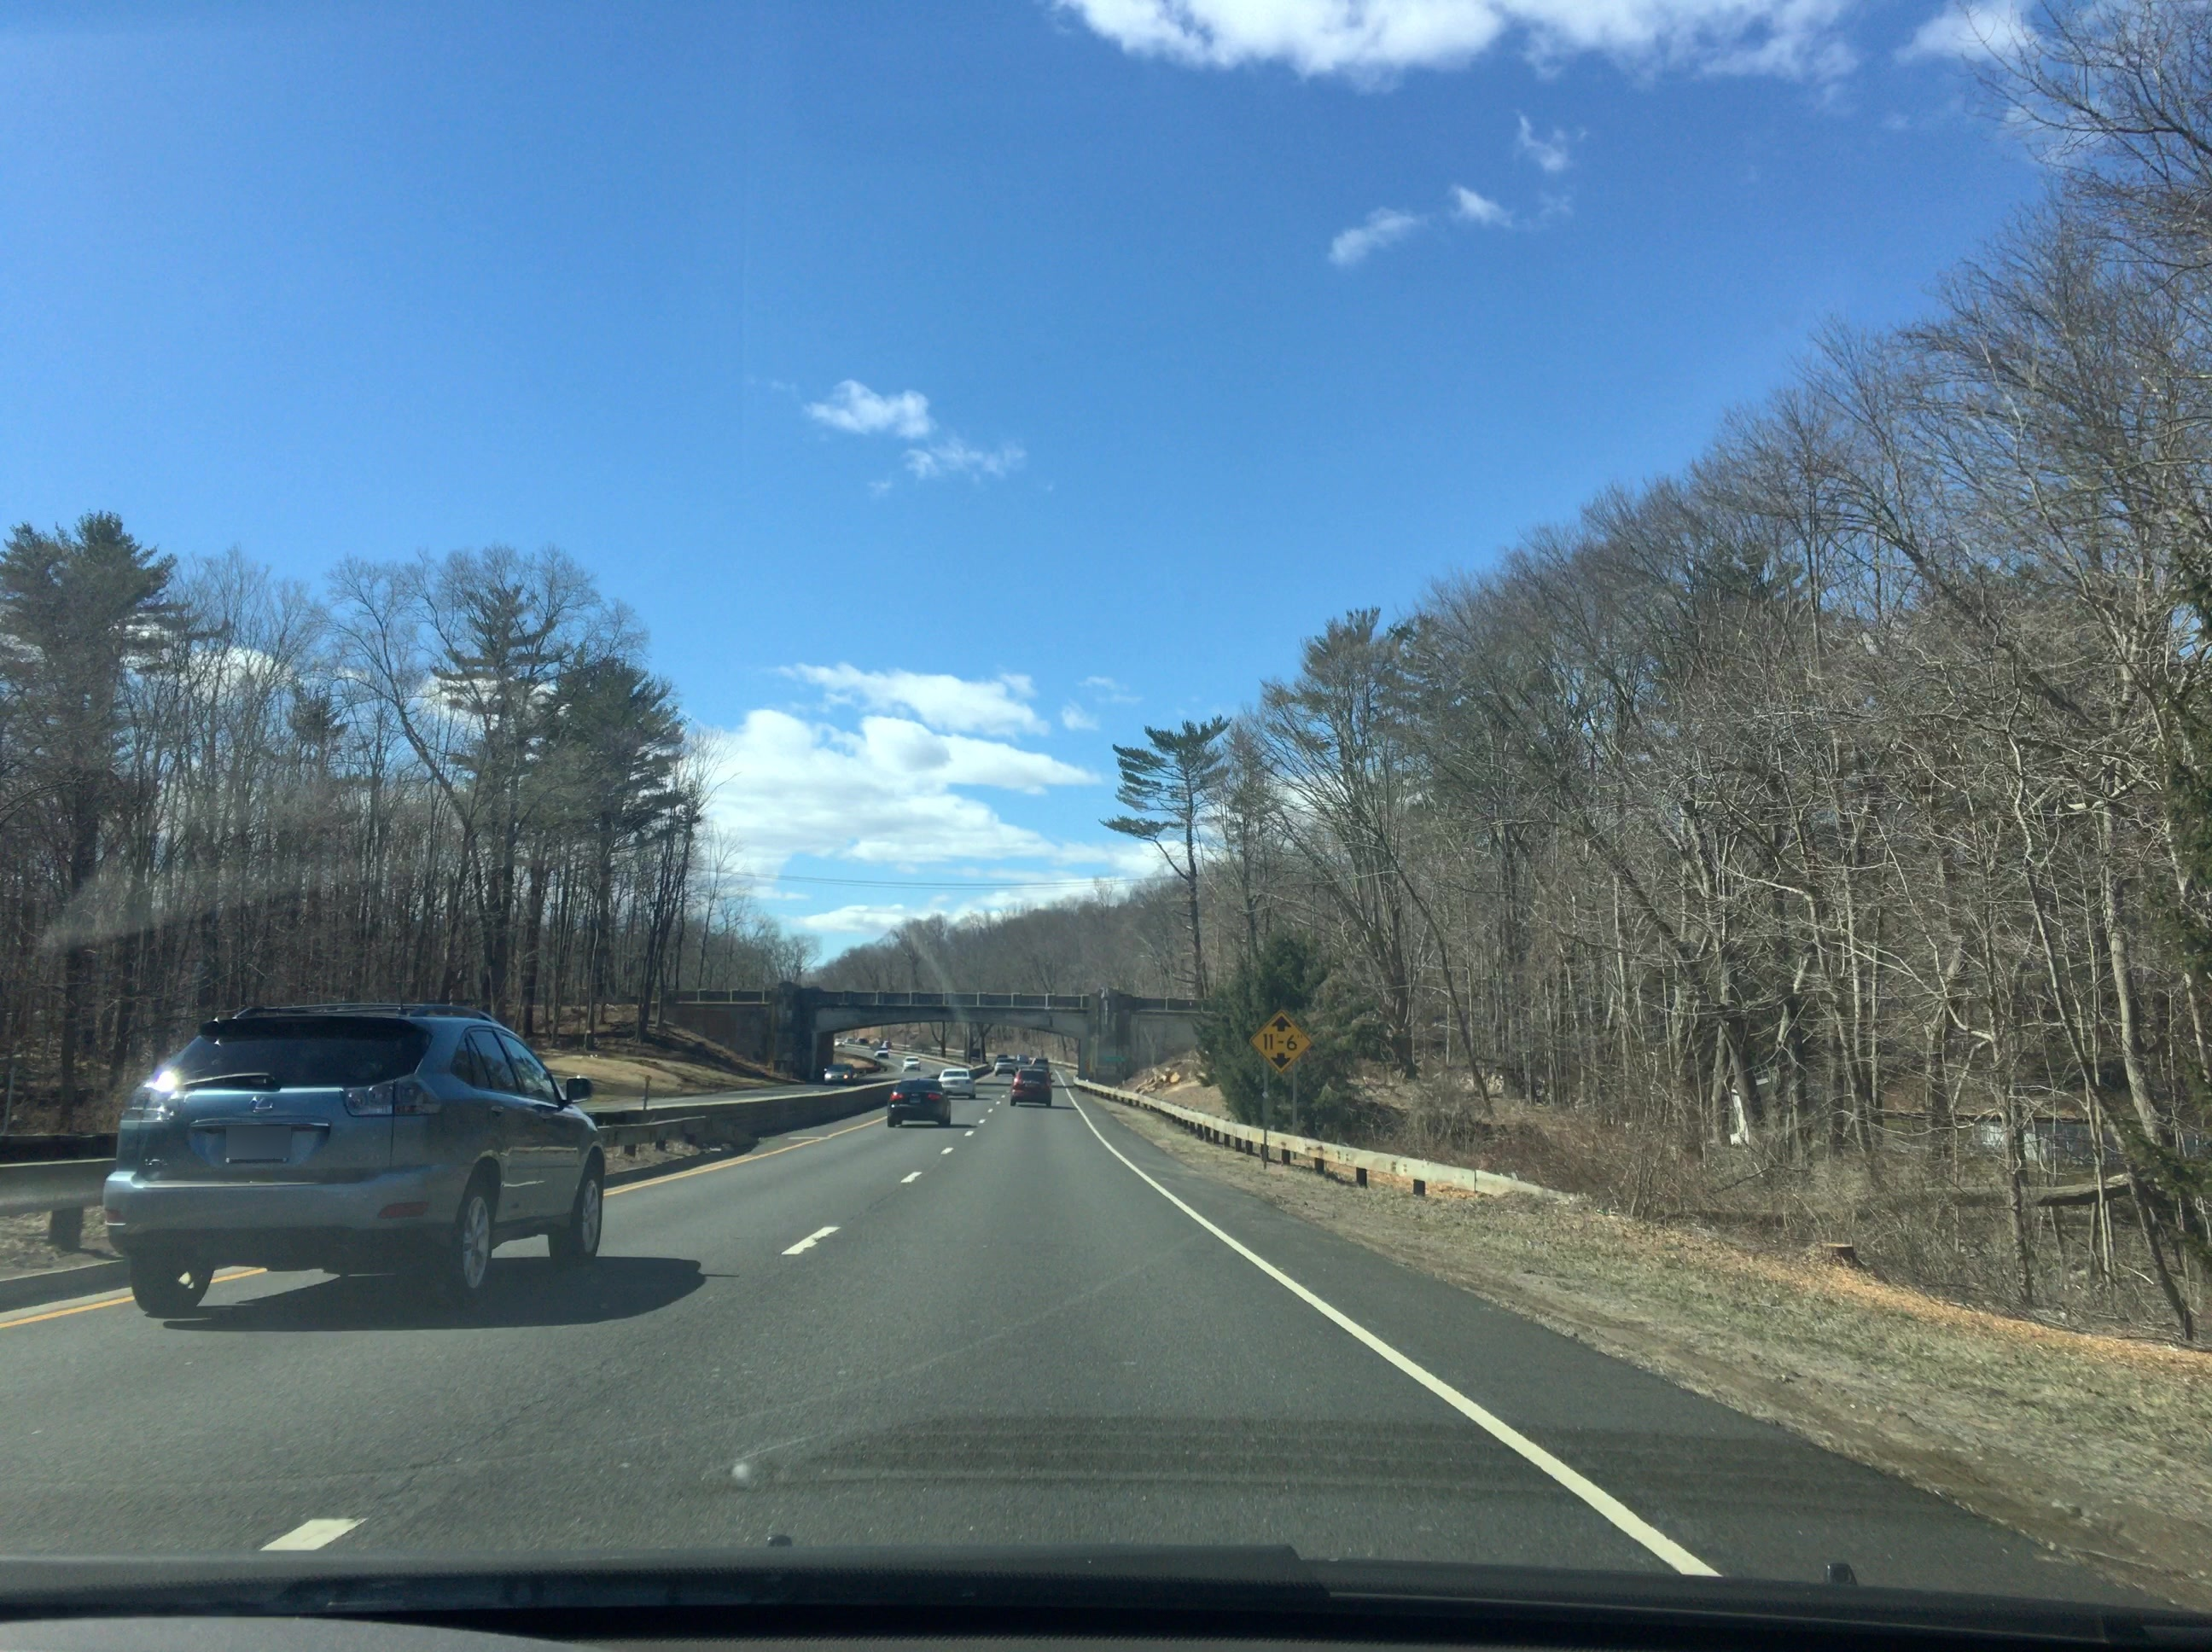low-clearance-sign: (1249, 1010, 1313, 1074)
